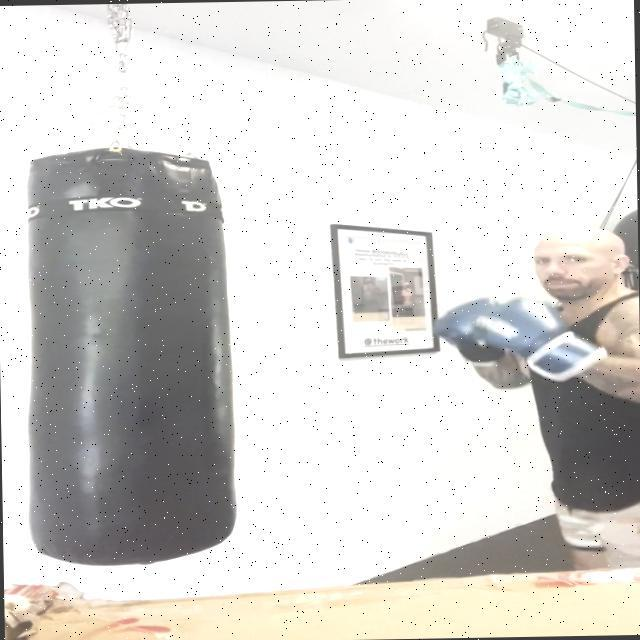bag: (10, 144, 254, 564)
